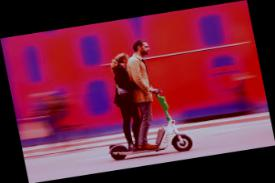multiple: (85, 33, 197, 164)
